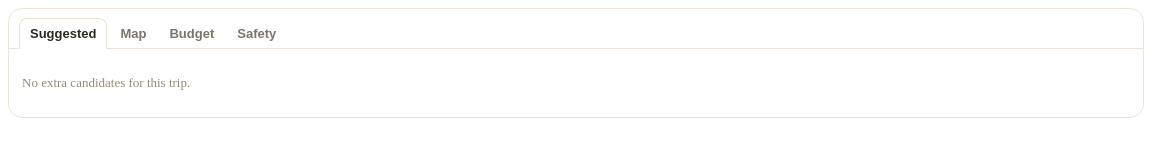
Test case: #205: Safety tab renders result.advisories[] (honesty disclosures) › a day-planner honesty-note-kind advisory renders sensibly
The width and height of the screenshot is (1152, 160).
Click the button "Safety" at (257,33), box [227,18,286,48]
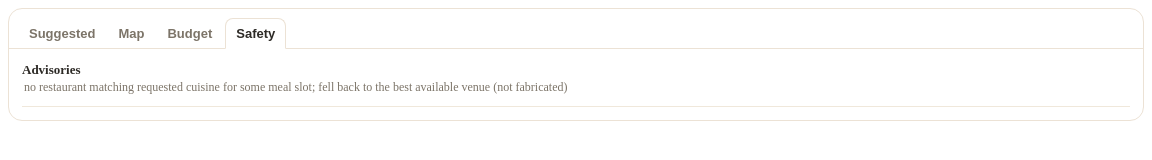
Now the text "fell back to the best available venue (not fabricated)" is shown, box [24,80,568,94]
